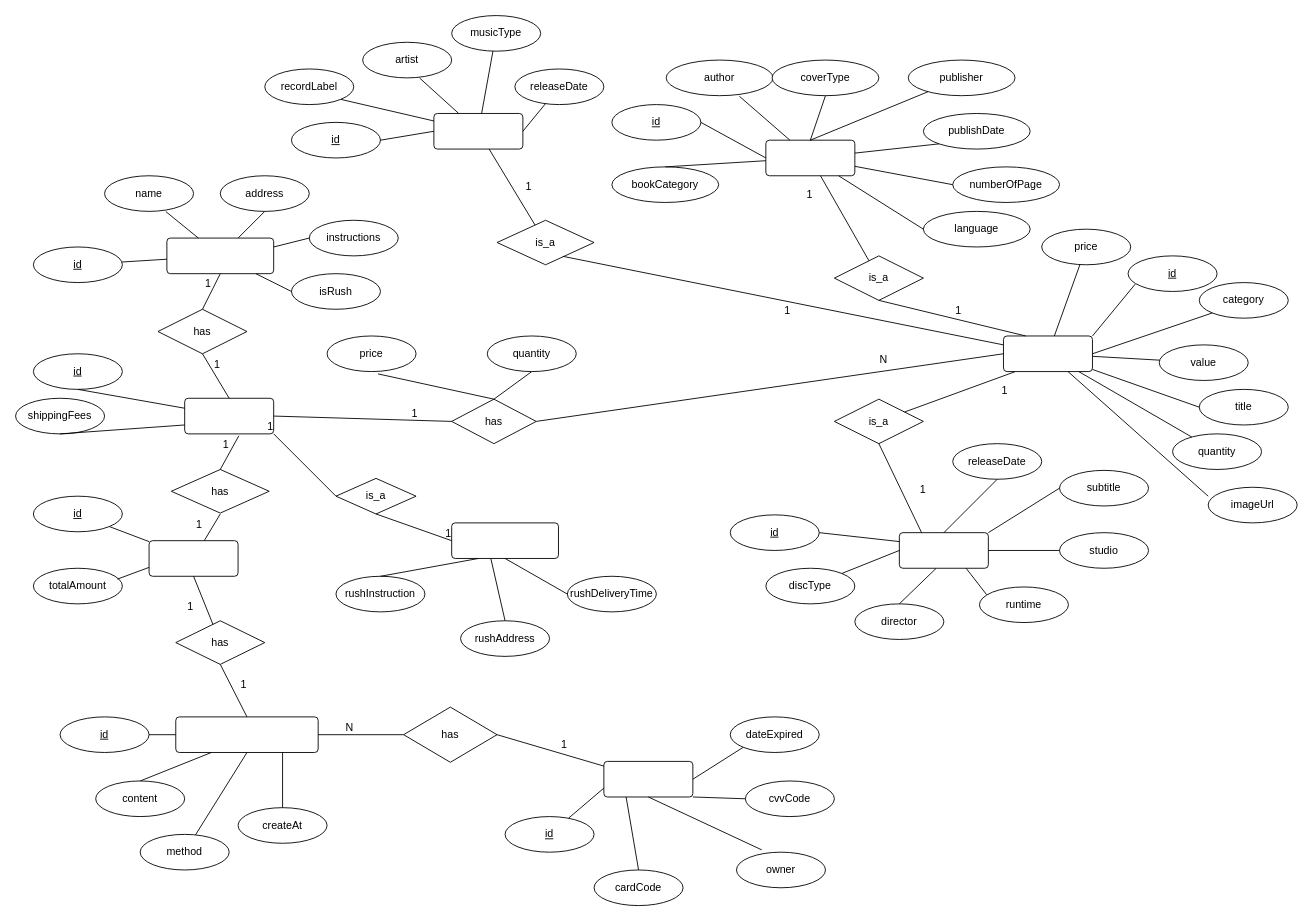
Image size: 1313x921. Some labels were removed from this diagram. The shapes that lost their labels are listed below. From the top down, each one's centre as x and y in pixels, then its label:
At point (478, 131): "CD_TuanND".
At point (810, 157): "Book_TuanND".
At point (220, 255): "DeliveryInfo_TuanND".
At point (1047, 353): "Media_TuanND".
At point (229, 415): "Order_TuanND".
At point (193, 558): "Invoice_TuanND".
At point (504, 540): "RushOrder_TuanND".
At point (943, 550): "DVD_TuanND".
At point (246, 734): "PaymentTransaction_TuanND".
At point (648, 779): "Card_TuanND".
